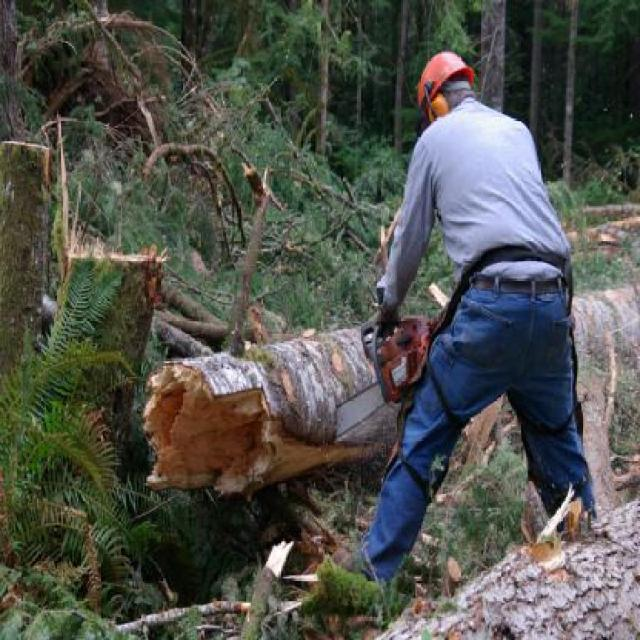Chainsaw: (326, 283, 443, 446)
